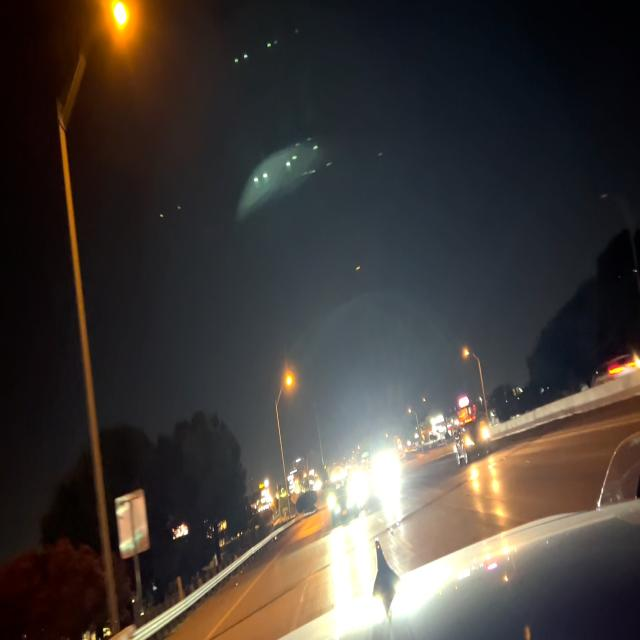back-of-sign: (116, 491, 150, 560)
